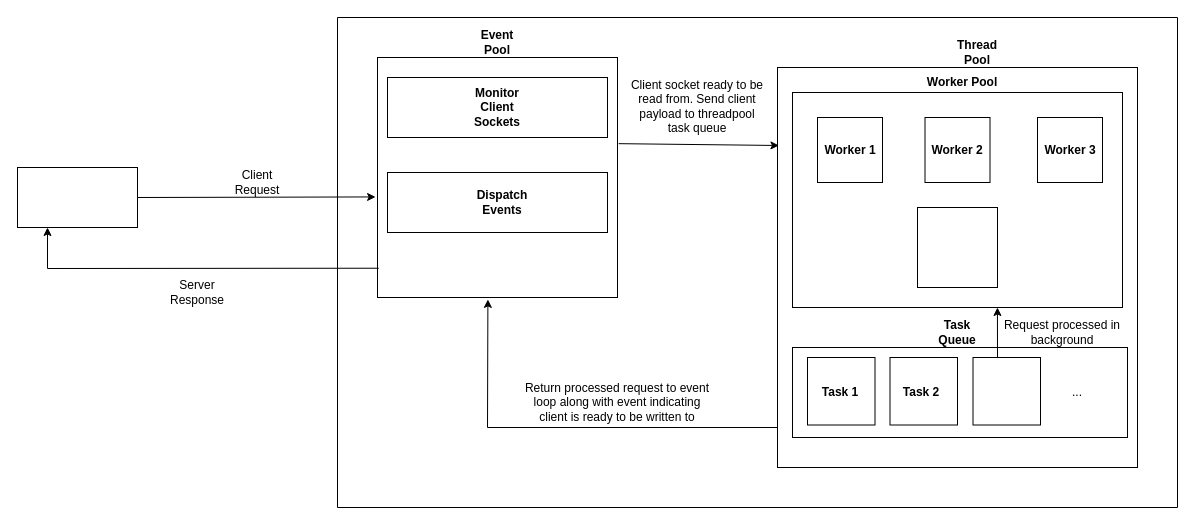
Image size: 1195x525. Some labels were removed from this diagram. Here are the shapes that lost their labels. From the top down, the centre of each, then its label:
point 77,197: Incoming Requests
point 957,247: Worker 4
point 1006,390: Task 3
